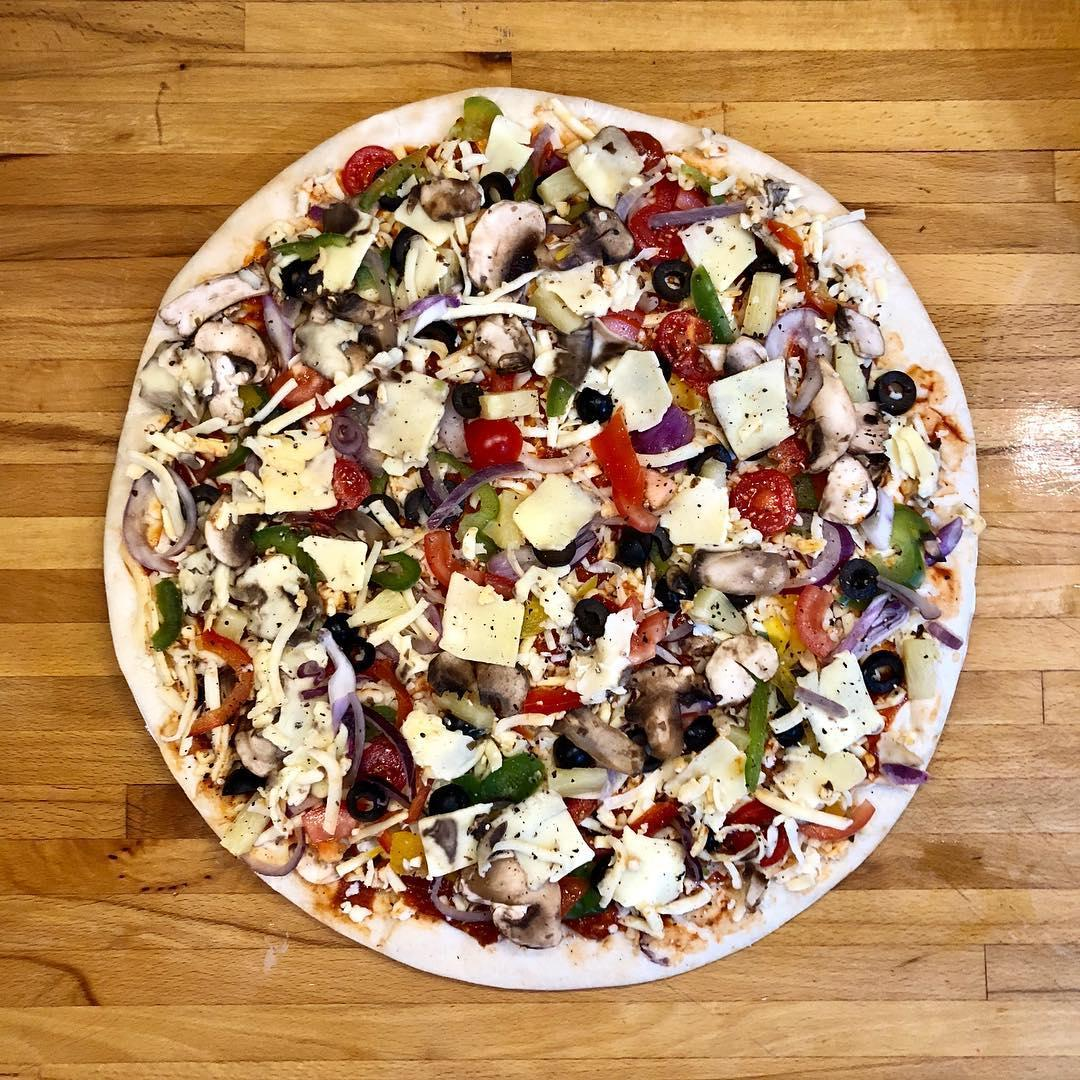Cheese: (429, 566, 537, 675), (703, 353, 807, 463), (495, 789, 602, 892), (504, 459, 607, 563), (790, 650, 888, 758), (595, 817, 695, 918), (254, 424, 346, 522), (364, 371, 450, 470), (397, 699, 481, 789), (570, 605, 644, 705), (653, 471, 738, 558), (677, 211, 762, 298), (530, 255, 626, 325), (774, 747, 870, 812), (294, 528, 374, 602), (469, 383, 552, 426)
Mushroom: (466, 857, 567, 955), (145, 255, 275, 328), (618, 658, 701, 768), (133, 336, 218, 428), (469, 196, 546, 294), (548, 704, 648, 779), (279, 309, 375, 385), (806, 352, 862, 469), (185, 310, 278, 380), (703, 629, 784, 705), (385, 222, 453, 308), (328, 278, 405, 352), (692, 543, 792, 599), (818, 449, 883, 532), (551, 205, 639, 265), (463, 311, 539, 379), (220, 782, 283, 864), (518, 321, 592, 389), (194, 351, 252, 437), (566, 122, 649, 178), (275, 259, 335, 334), (576, 310, 645, 373), (199, 493, 256, 569), (858, 646, 911, 715), (246, 583, 302, 648), (743, 268, 783, 346), (418, 175, 483, 220)
Olives: (870, 366, 921, 418), (275, 253, 327, 301), (345, 777, 392, 828), (649, 256, 697, 304), (838, 556, 881, 607), (860, 648, 904, 696), (548, 732, 599, 772), (475, 168, 519, 214), (413, 313, 462, 354), (384, 223, 417, 283), (572, 383, 619, 425), (423, 779, 473, 816), (401, 484, 443, 527), (358, 489, 402, 530), (319, 611, 361, 652), (340, 636, 380, 675), (696, 440, 734, 474), (182, 479, 223, 509), (686, 715, 718, 750), (379, 189, 406, 213)
Onion: (840, 574, 967, 666), (396, 267, 551, 341), (409, 462, 550, 531), (765, 301, 838, 419), (354, 696, 426, 805), (117, 469, 177, 586), (317, 627, 374, 741), (422, 869, 516, 938), (317, 345, 408, 415), (780, 519, 859, 599), (150, 457, 204, 567), (620, 392, 701, 459), (636, 607, 703, 681), (248, 286, 300, 378), (248, 819, 314, 883), (338, 686, 373, 806), (790, 678, 853, 728), (648, 201, 753, 230), (876, 754, 931, 795), (565, 523, 602, 573), (530, 121, 552, 188), (928, 514, 959, 560)
Peppers: (587, 399, 662, 543), (768, 210, 851, 323), (454, 739, 555, 812), (196, 621, 256, 739), (243, 520, 321, 589), (870, 501, 931, 588), (736, 674, 779, 795), (359, 144, 432, 213), (787, 580, 844, 668), (688, 261, 744, 346), (383, 818, 439, 895), (452, 483, 505, 558), (144, 571, 187, 659), (658, 371, 725, 422), (266, 226, 353, 265), (442, 92, 506, 143), (369, 542, 423, 599), (421, 523, 465, 588), (322, 457, 372, 509), (429, 437, 484, 482), (543, 368, 580, 425), (521, 590, 555, 645)
Pizza: (101, 89, 980, 992)
Tomatoes: (650, 308, 728, 385), (623, 179, 691, 260), (732, 468, 800, 540), (336, 137, 401, 206), (462, 410, 528, 476), (623, 120, 674, 168)
